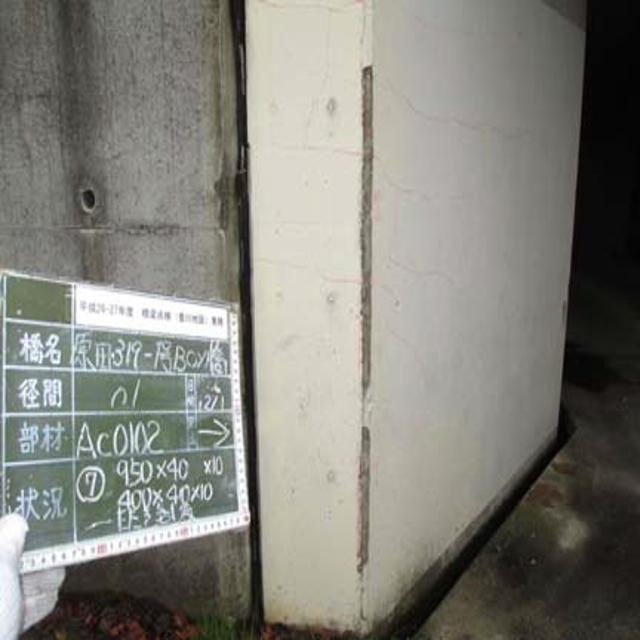spalling: (347, 63, 387, 580)
